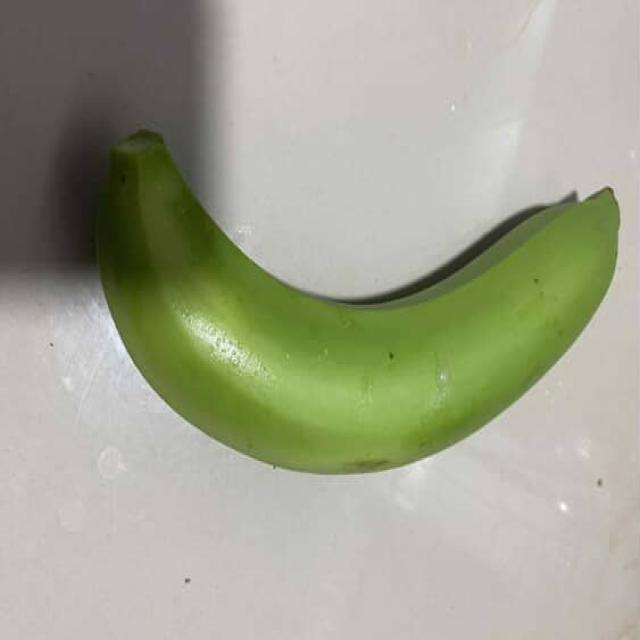Raw: (79, 90, 640, 500)
